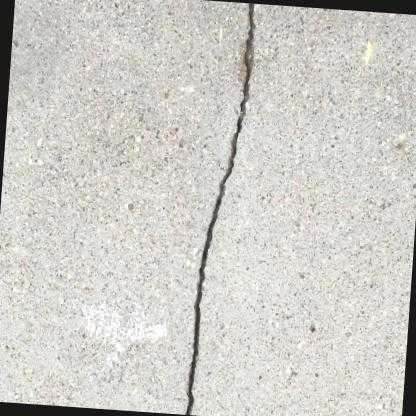crack: (184, 4, 253, 415)
